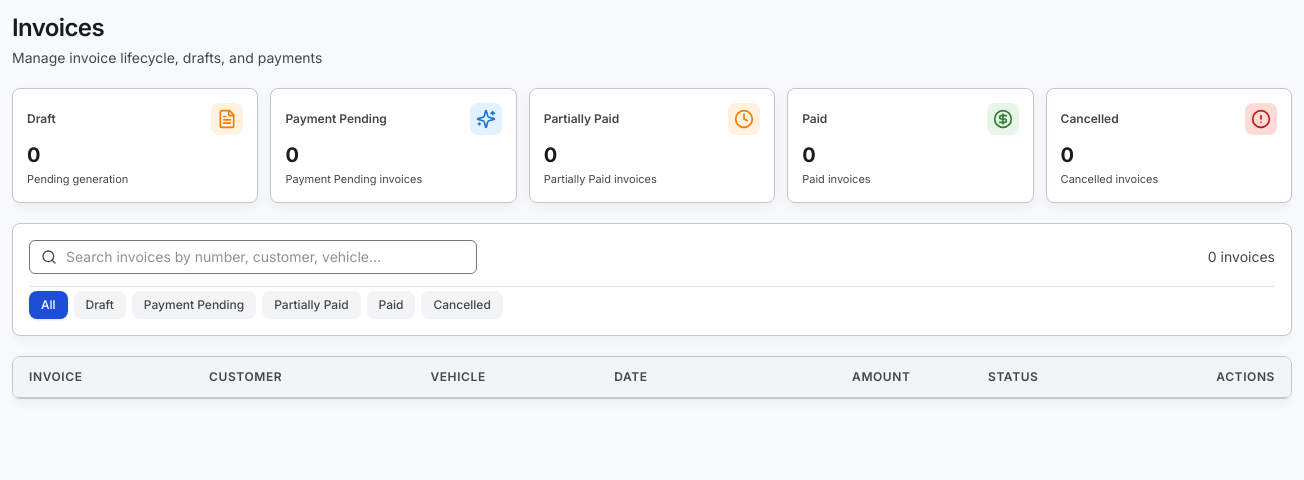
Test case: Invoices List Component & Status Display › Invoice Search Enhancements (Job Card Number Support) › forwards Job Card Number to getInvoices search parameter and renders matching invoice
Type "JC-2026-000001" into the field with placeholder "Search invoices by number, customer, vehicle..." at (253, 256), box 29,240 -> 477,274
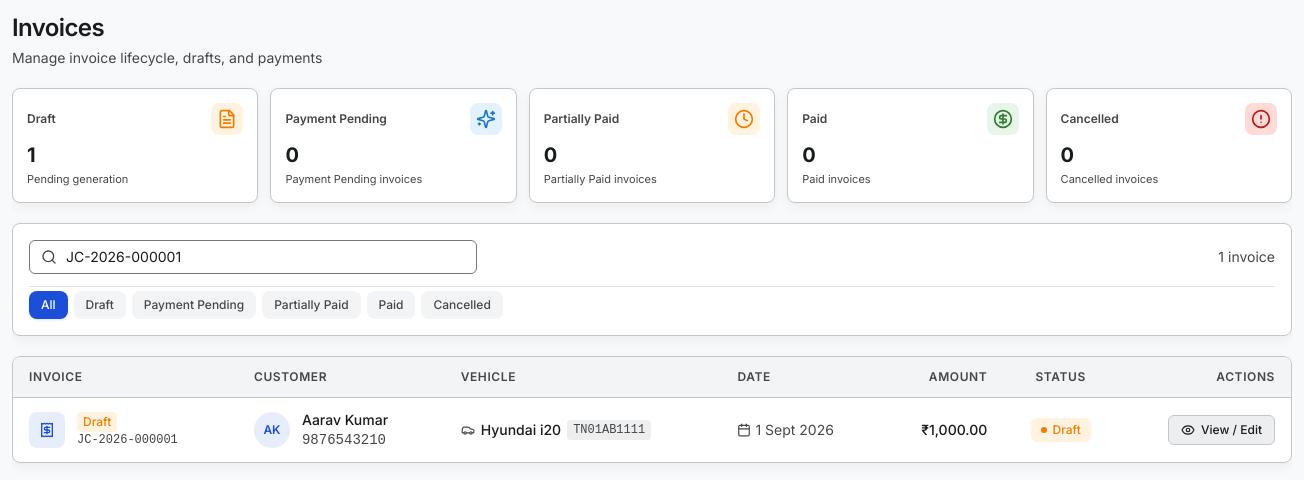
Check: the text "JC-2026-000001" is shown, box 77,432 -> 178,448
Check: the text "Aarav Kumar" is shown, box 302,410 -> 388,430
